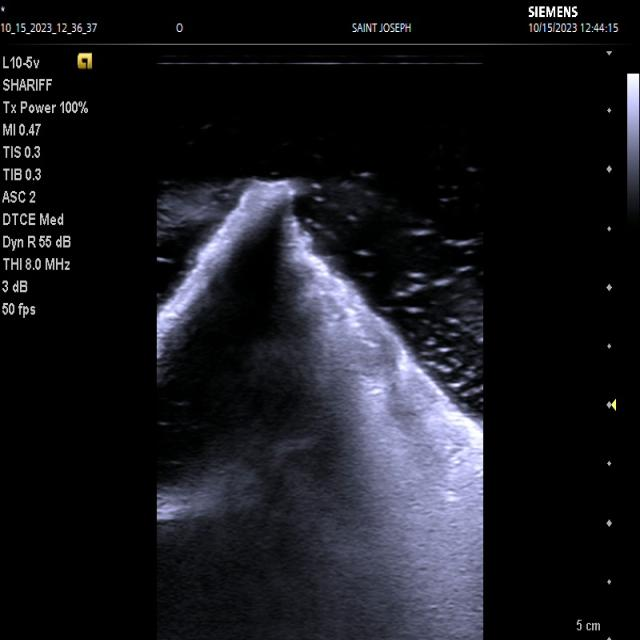tissue: (156, 181, 484, 640)
